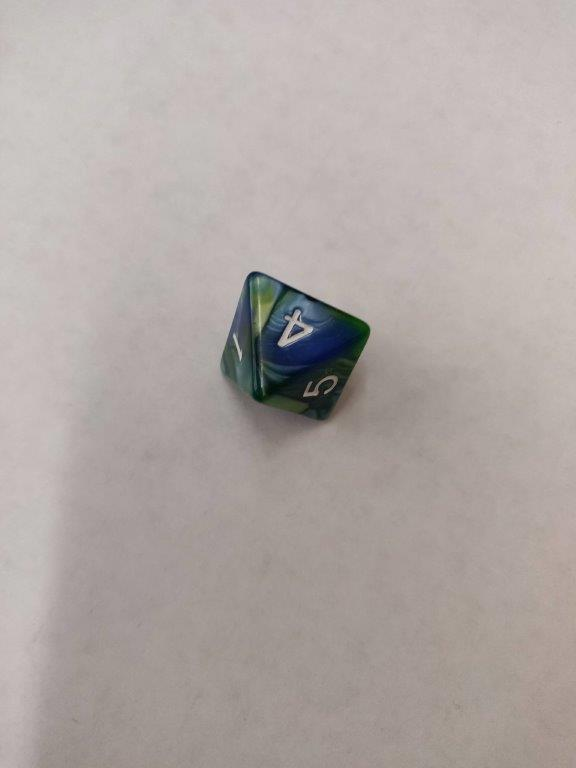d8-4: (217, 270, 373, 426)
